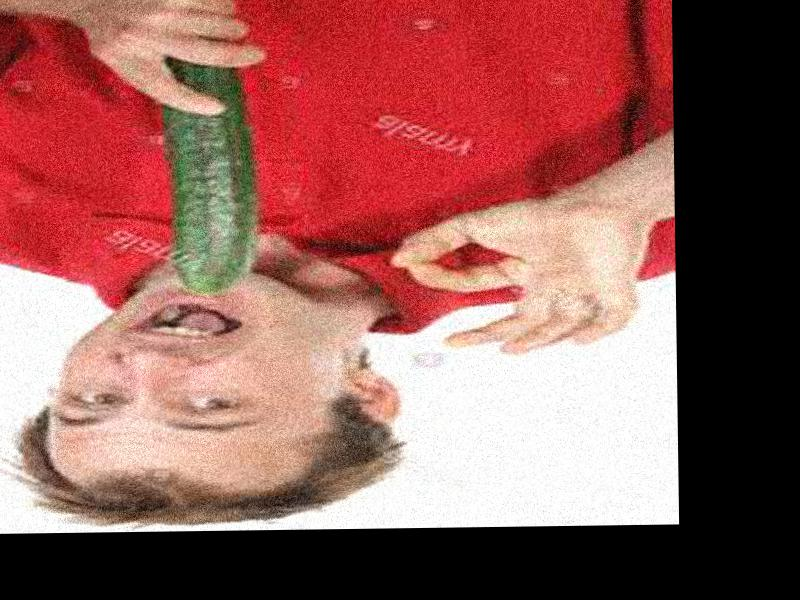Cucumber: (171, 60, 246, 293)
